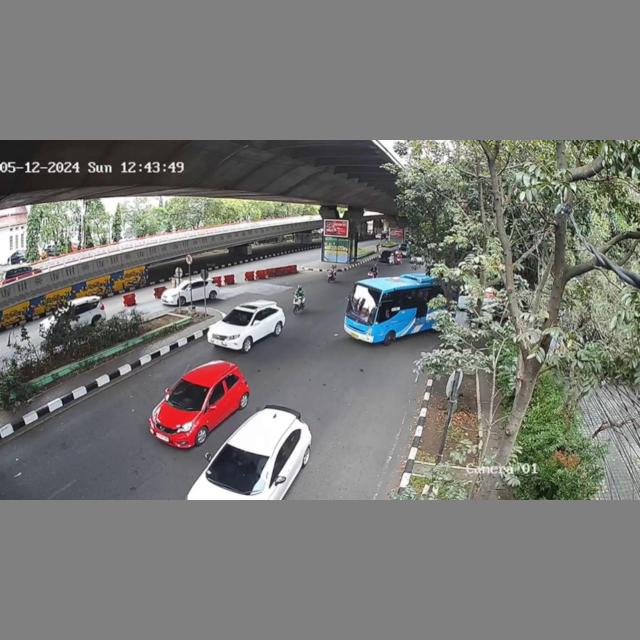windshield: (206, 445, 273, 489), (166, 378, 212, 411), (223, 308, 254, 326)
